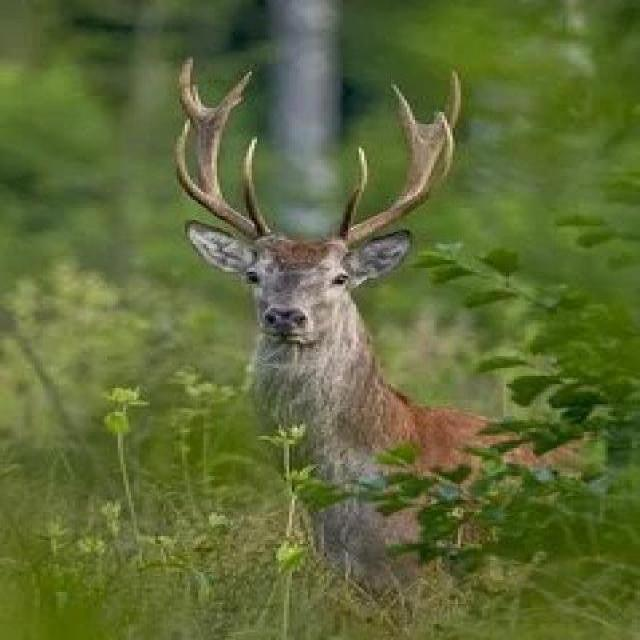deer: (123, 52, 618, 585)
